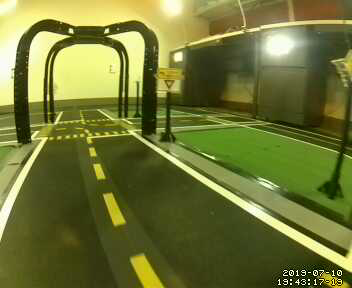Turn Yield: (157, 69, 182, 94)
